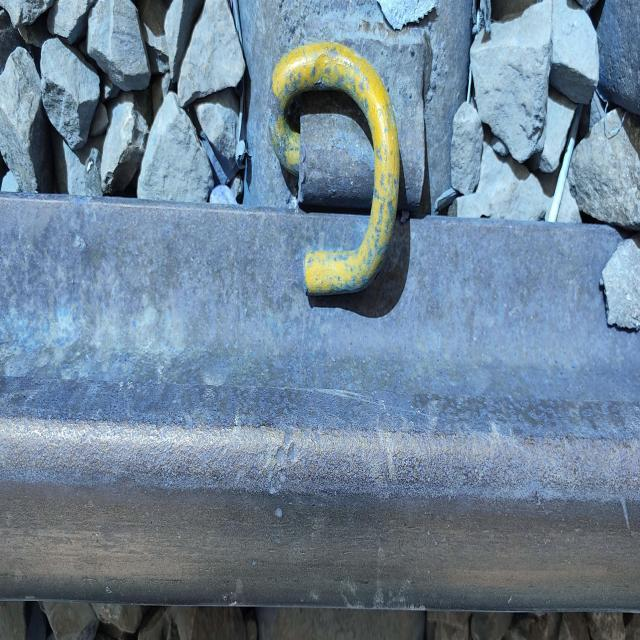Good Fasteners: (240, 0, 471, 290)
